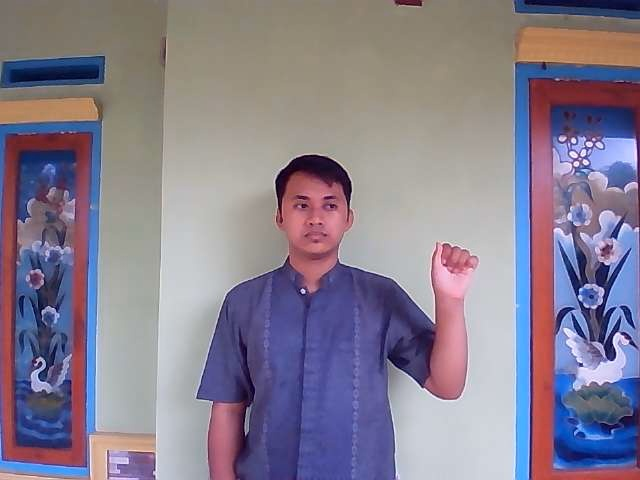A: (425, 235, 482, 308)
